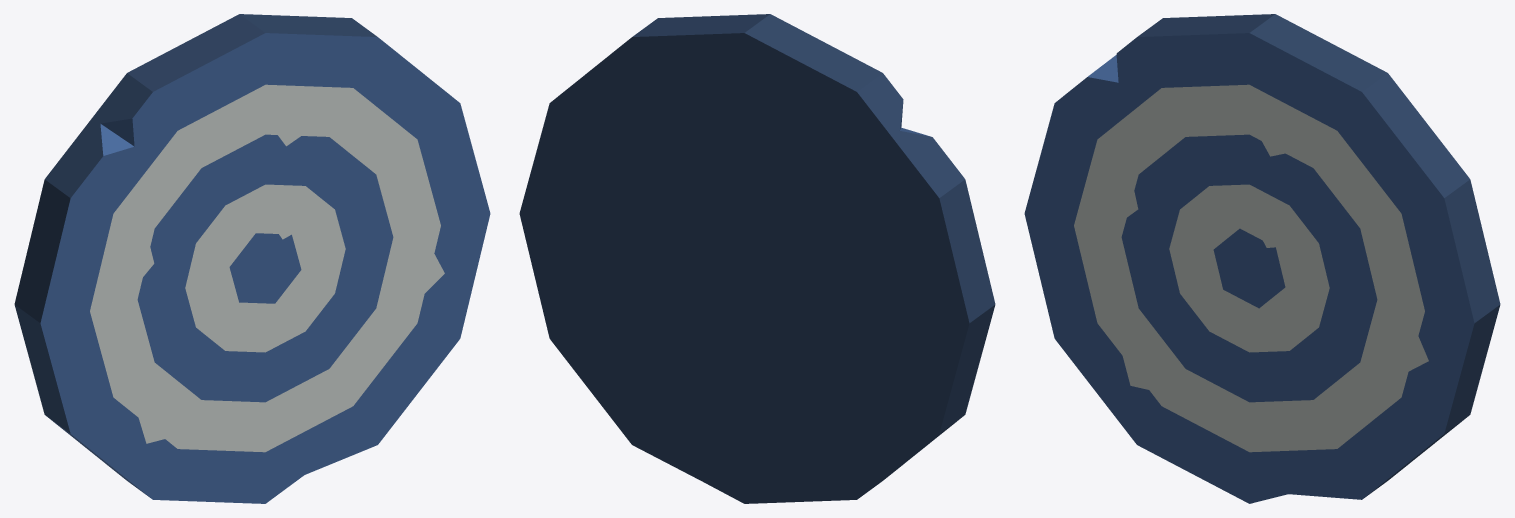
The model's file is SM_PolygonPrototype_Prop_Target_03_cibles.glb.
3 views of the same model, side by side, from view 1: azimuth 30°, elevation 25°; view 2: azimuth 150°, elevation 25°; view 3: azimuth 330°, elevation 25° (orthographic).
Parts seen in each view (by area): view 1: SM_PolygonPrototype_Prop_Target_03; view 2: SM_PolygonPrototype_Prop_Target_03; view 3: SM_PolygonPrototype_Prop_Target_03.
Boxes of the visible parts, <box> form: SM_PolygonPrototype_Prop_Target_03: <box>14,14,490,503</box>; SM_PolygonPrototype_Prop_Target_03: <box>519,14,995,503</box>; SM_PolygonPrototype_Prop_Target_03: <box>1024,14,1500,503</box>.
Size of the model in its own units: 0.7175 by 0.7175 by 0.0717.
1 material, 1 textured.
